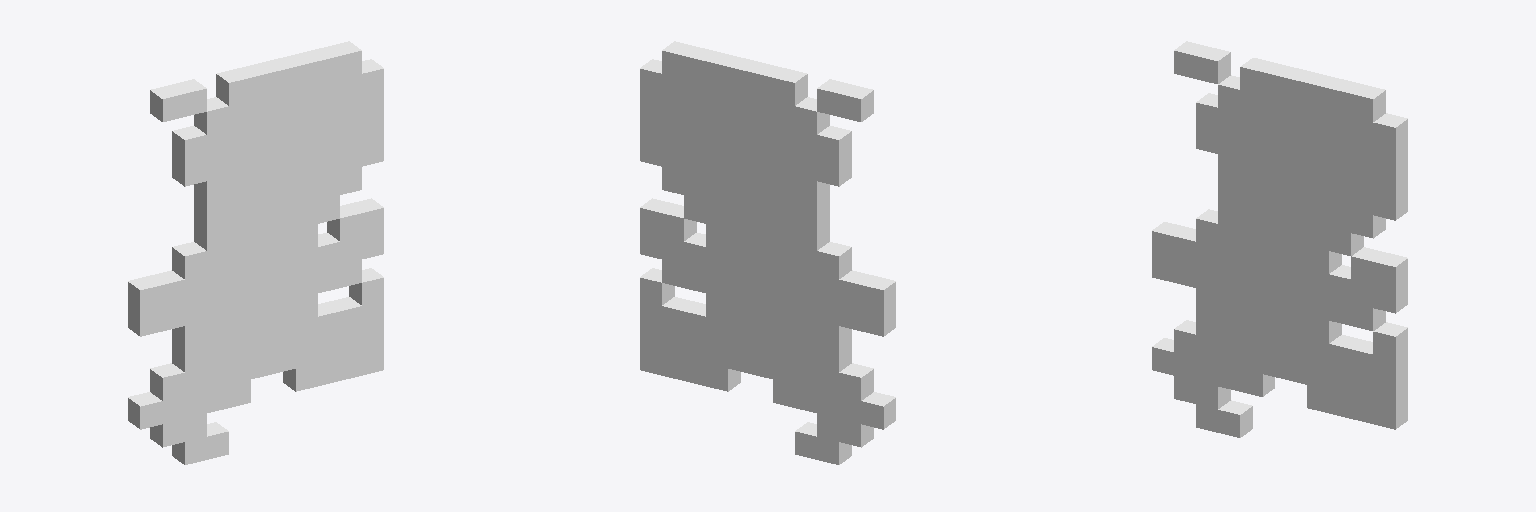
The model's file is Run1.obj.
3 renders of one model, left to right at view 1: azimuth 30°, elevation 25°; view 2: azimuth 150°, elevation 25°; view 3: azimuth 330°, elevation 25°, orthographic.
Visible parts, largest first — view 1: object 1; view 2: object 1; view 3: object 1.
Part boxes in pixels (bbox=[...]): object 1: bbox=[128, 41, 383, 464]; object 1: bbox=[640, 41, 895, 464]; object 1: bbox=[1152, 41, 1407, 437].
Bounding box in the file's own units: 1.1 × 1.6 × 0.1.